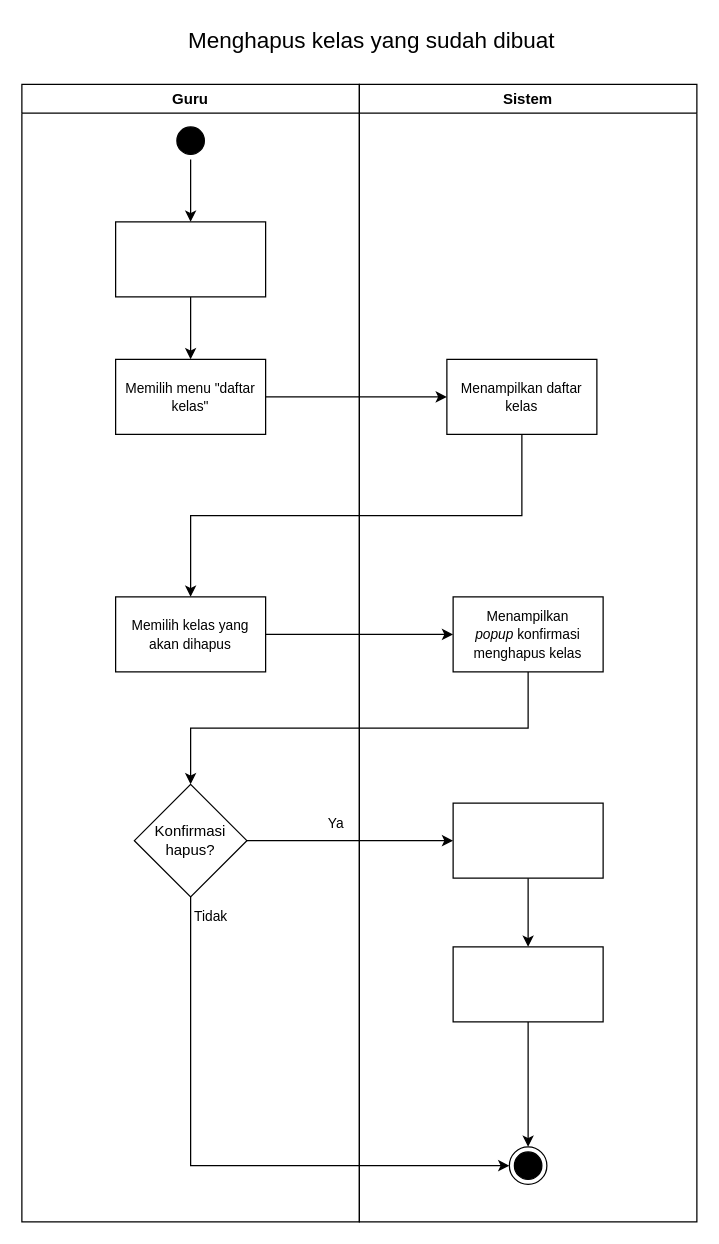
The diagram is 719 pixels wide and 1244 high, and some of its shapes have lost their labels. Here are the shapes that lost their labels. From the top down, the centre of each, then its label:
(190,259): Login ke aplikasi
(527,840): Menghapus kelas dan seluruh anggota siswanya
(527,984): Menampilkan daftar kelas terbaru
